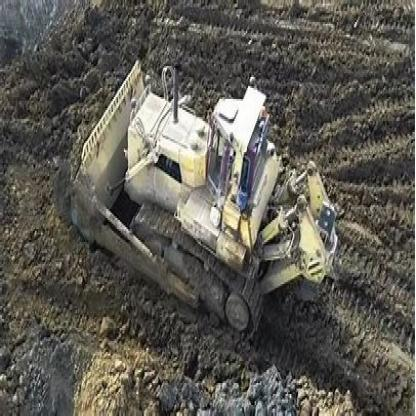bull_dozer/loader/grader: (62, 48, 360, 361)
